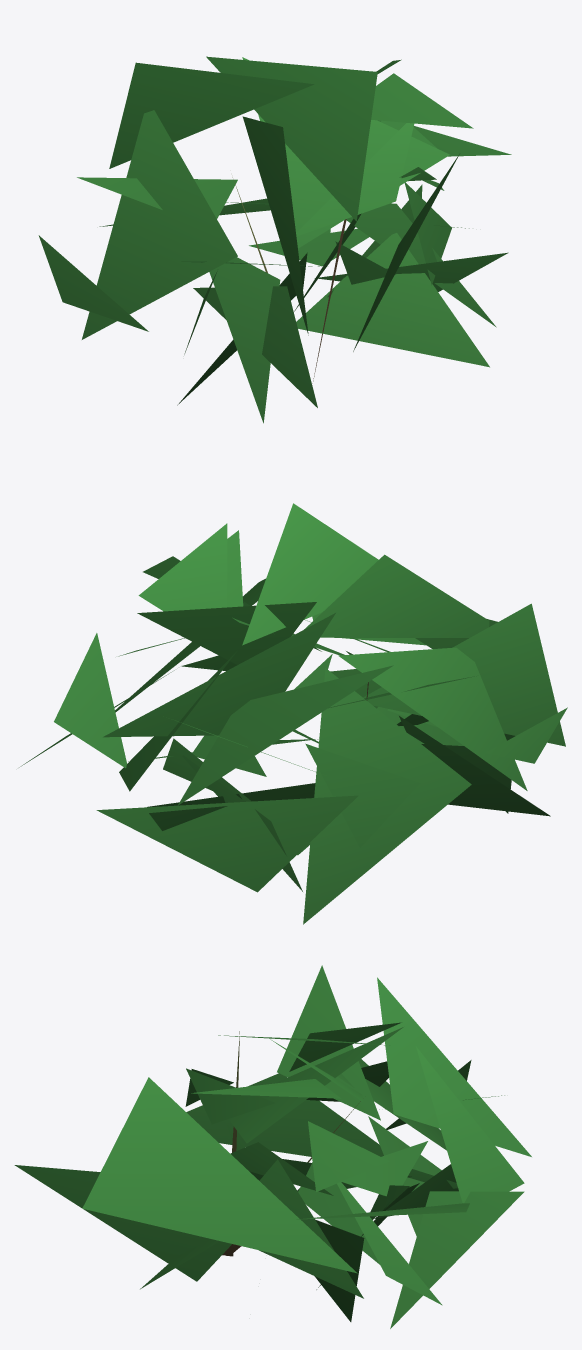
File: bush1.glb
3 views of the same model, one above another, from view 1: azimuth 30°, elevation 25°; view 2: azimuth 150°, elevation 25°; view 3: azimuth 270°, elevation 25° (orthographic). The views are drawn at different scales.
Parts seen in each view (by area): view 1: Bush; view 2: Bush; view 3: Bush.
Boxes of the visible parts, bbox=[...] form: Bush: bbox=[38, 56, 511, 423]; Bush: bbox=[19, 503, 567, 924]; Bush: bbox=[14, 965, 531, 1328].
Bounding box in the file's own units: 3.03 × 1.92 × 3.18.
